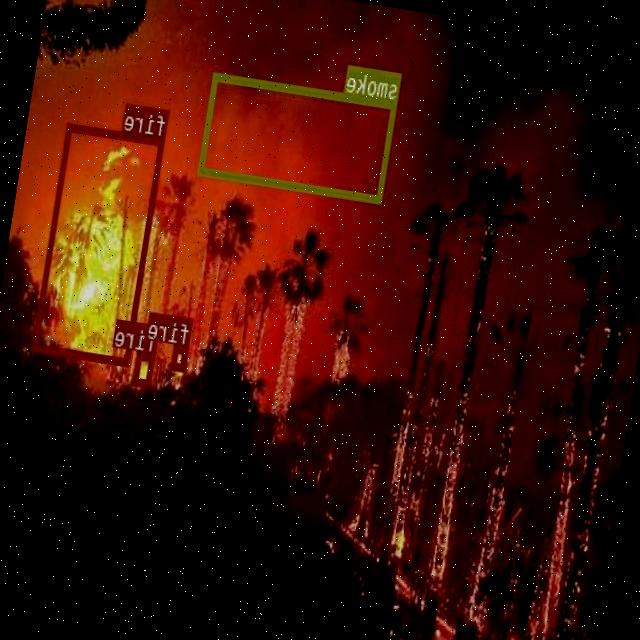fire: (32, 122, 166, 366), (134, 352, 156, 386), (172, 344, 189, 372)
smoke: (200, 72, 398, 202)
